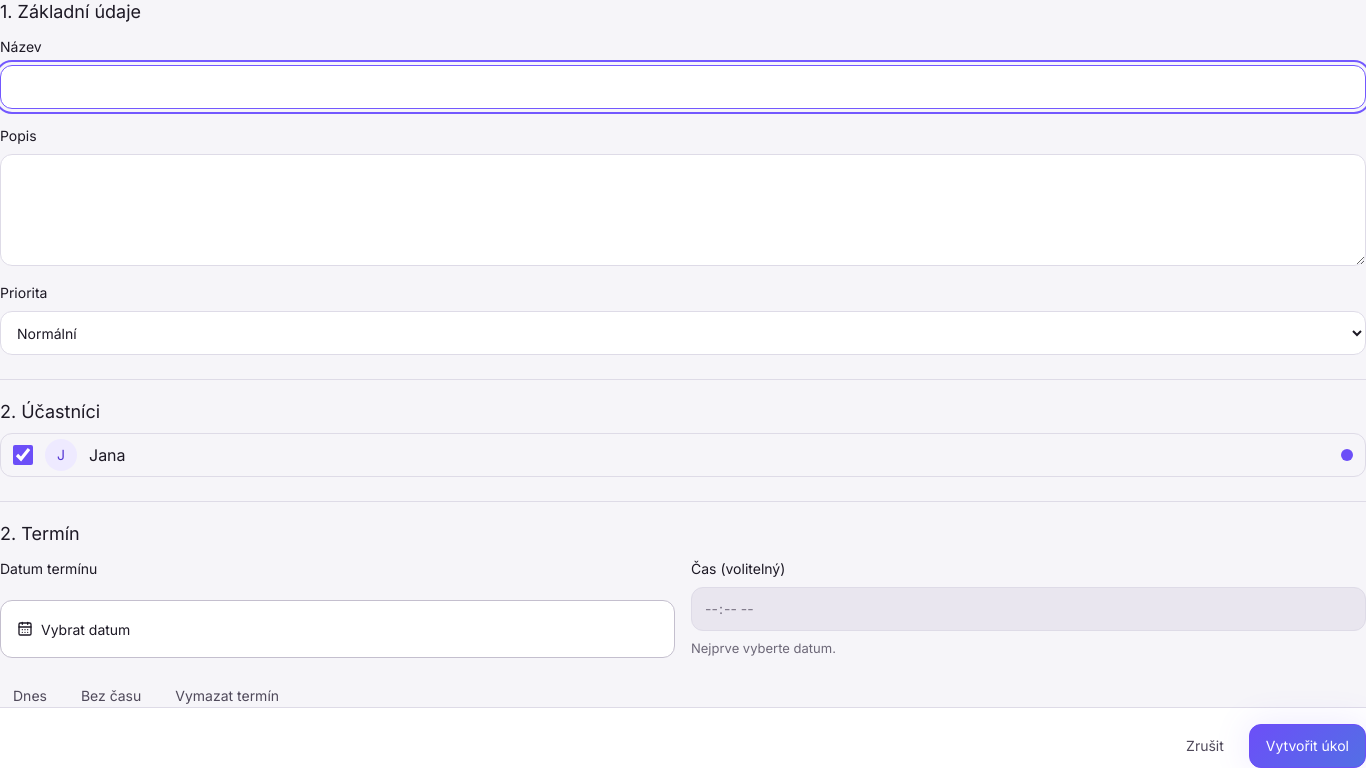
Test case: agenda frontend › opens an accessible calendar date picker
Click the button "Vybrat datum".
click(86, 629)  # box x1=0 y1=600 x2=675 y2=658
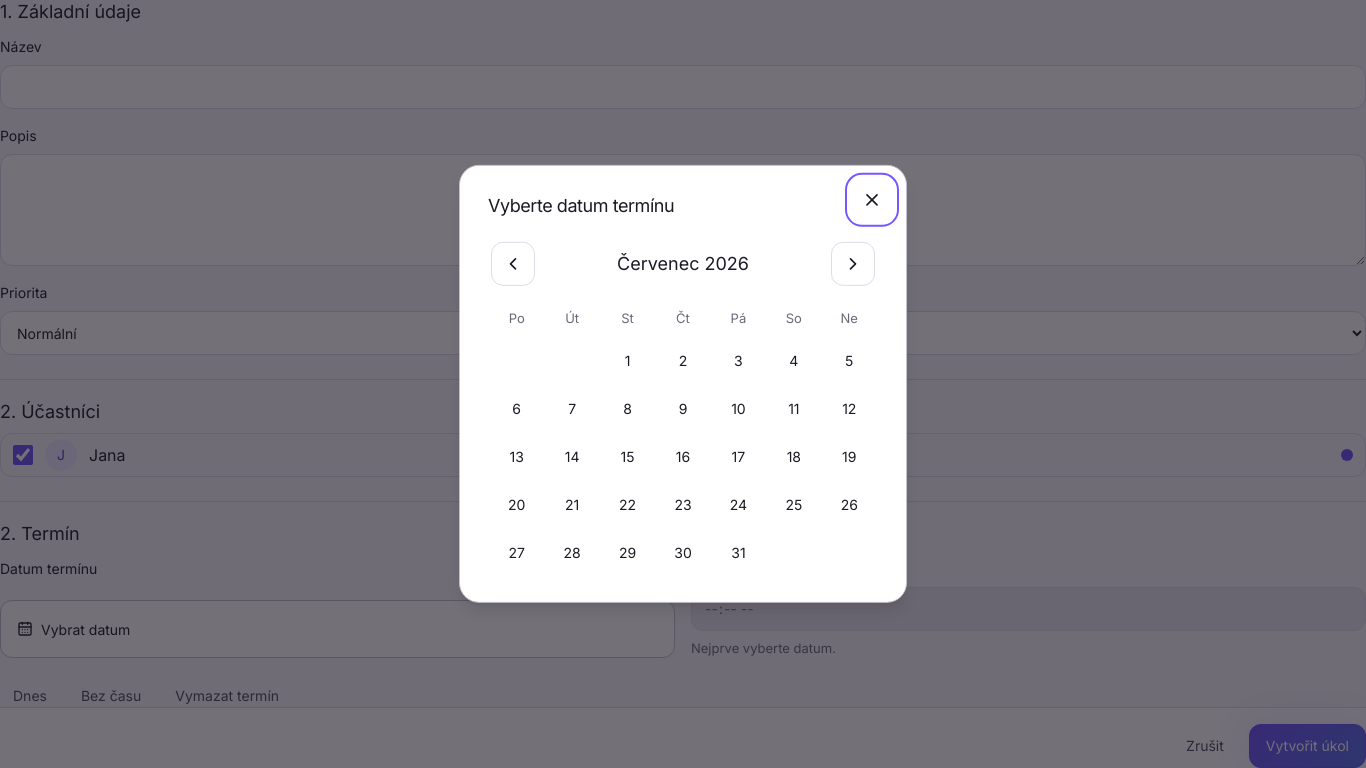
Result: the table named "Kalendář termínu" is shown at x1=491 y1=302 x2=875 y2=574
Result: the button named "Předchozí měsíc" is shown at x1=491 y1=242 x2=535 y2=286
